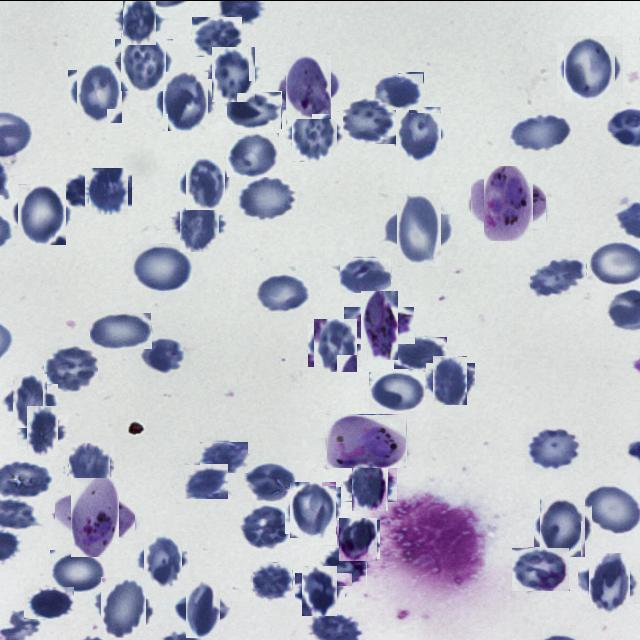red blood cell: (560, 38, 620, 98), (389, 198, 448, 258), (132, 242, 195, 290), (15, 186, 70, 240), (96, 580, 150, 634), (72, 65, 126, 118), (234, 176, 296, 221), (160, 75, 212, 127), (118, 35, 170, 87), (537, 501, 589, 553), (287, 484, 339, 536), (583, 556, 635, 608), (289, 107, 340, 159), (525, 425, 582, 471), (509, 112, 573, 152), (512, 546, 570, 590), (342, 96, 396, 143), (44, 344, 98, 391), (393, 108, 443, 158), (208, 48, 258, 98), (50, 548, 107, 591), (530, 253, 587, 296), (227, 131, 280, 176), (310, 321, 360, 368), (90, 311, 152, 348), (241, 505, 291, 550), (176, 201, 224, 247), (369, 371, 425, 410), (180, 586, 227, 632), (256, 273, 309, 313), (182, 160, 228, 206), (66, 444, 112, 490), (244, 462, 295, 503), (227, 90, 282, 128), (140, 537, 185, 583), (348, 460, 392, 506), (371, 72, 424, 110), (192, 16, 242, 56), (8, 378, 52, 423), (86, 168, 130, 212), (298, 568, 342, 612), (340, 256, 392, 292), (428, 358, 471, 400), (323, 544, 367, 585), (392, 336, 447, 368), (119, 0, 162, 40), (22, 409, 63, 450), (338, 518, 379, 559), (141, 336, 186, 372), (24, 586, 74, 618), (200, 442, 248, 474), (253, 561, 293, 598), (185, 464, 228, 498)
ring: (282, 58, 336, 114)
trophozoite: (327, 413, 407, 467), (63, 484, 127, 548), (478, 172, 540, 234), (352, 298, 406, 352)
